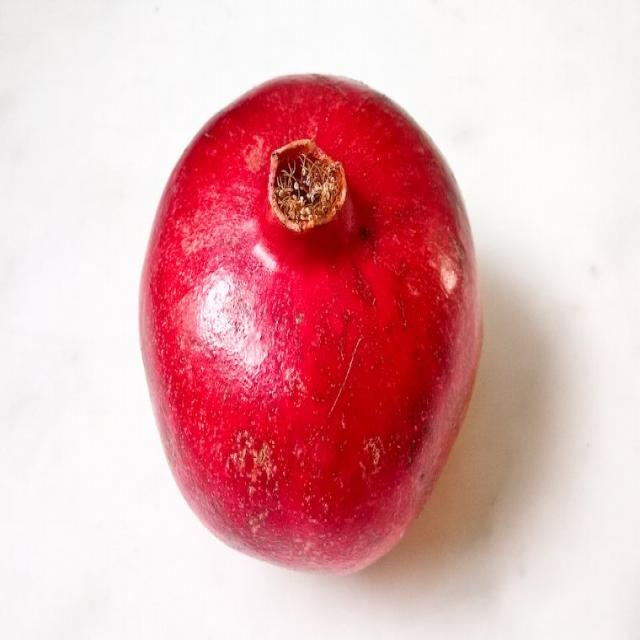pomegranate: (136, 71, 485, 580)
